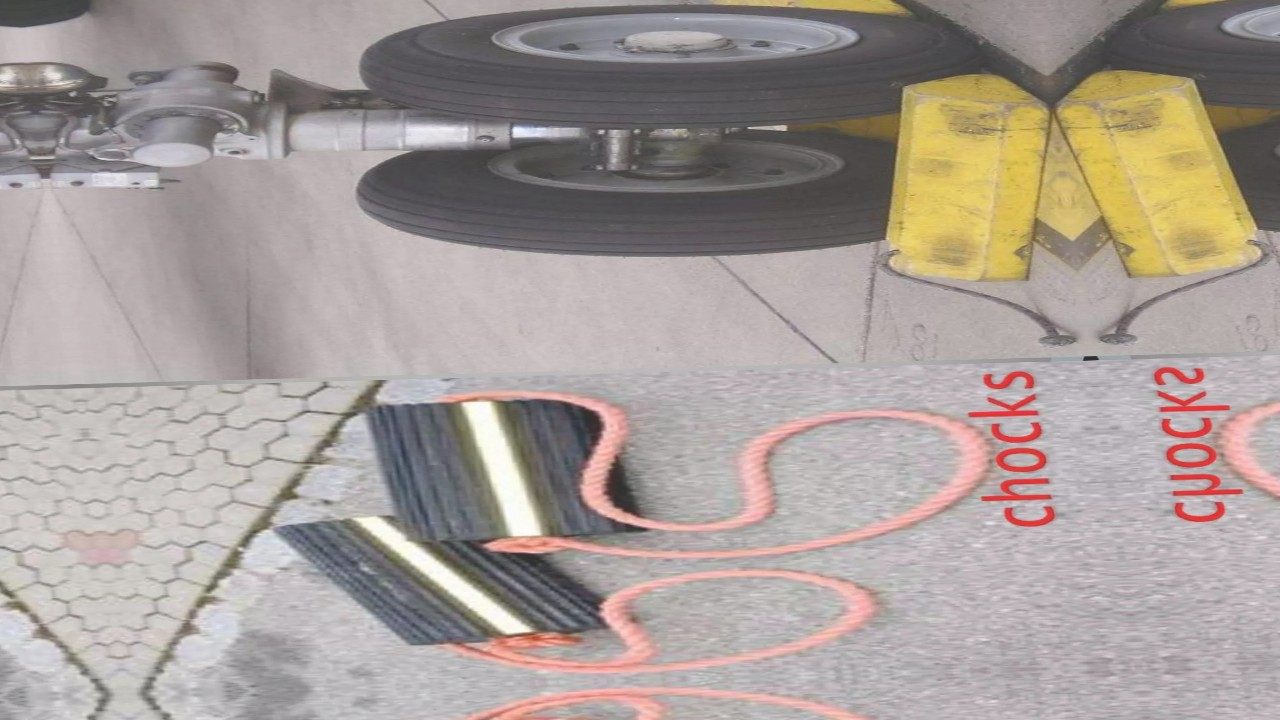chock: (267, 507, 610, 651), (843, 69, 1066, 288), (1060, 63, 1280, 282), (362, 387, 646, 545)
wheel: (354, 0, 992, 136), (348, 127, 919, 267), (15, 0, 92, 29)
